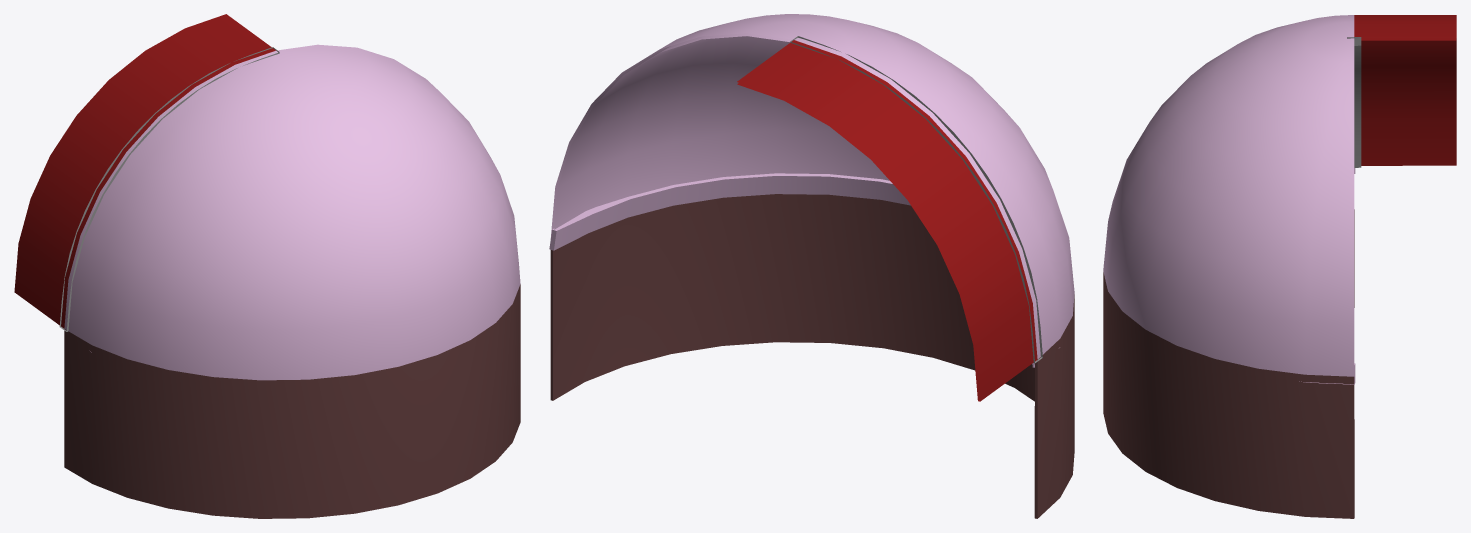
The model's file is Dome.fbx.
The picture shows the model from 3 angles, left to right: view 1: azimuth 30°, elevation 25°; view 2: azimuth 150°, elevation 25°; view 3: azimuth 270°, elevation 25°; orthographic projection. The views are drawn at different scales.
Visible parts, largest first — view 1: Dome, ArchRoof, ArchRoof001; view 2: Dome, ArchRoof, domewood, ArchRoof001; view 3: Dome, ArchRoof, ArchRoof001.
Part boxes in pixels (box(x1,y1,x2,y2)): Dome: box(64, 44, 520, 518); ArchRoof: box(14, 14, 275, 328); ArchRoof001: box(59, 47, 279, 331); Dome: box(550, 14, 1074, 518); ArchRoof: box(737, 40, 1037, 401); domewood: box(549, 173, 1059, 367); ArchRoof001: box(790, 36, 1042, 363); Dome: box(1103, 15, 1354, 518); ArchRoof: box(1354, 15, 1456, 165); ArchRoof001: box(1347, 37, 1361, 167).
Bounding box in the file's own units: 1613 × 1325 × 1130.
